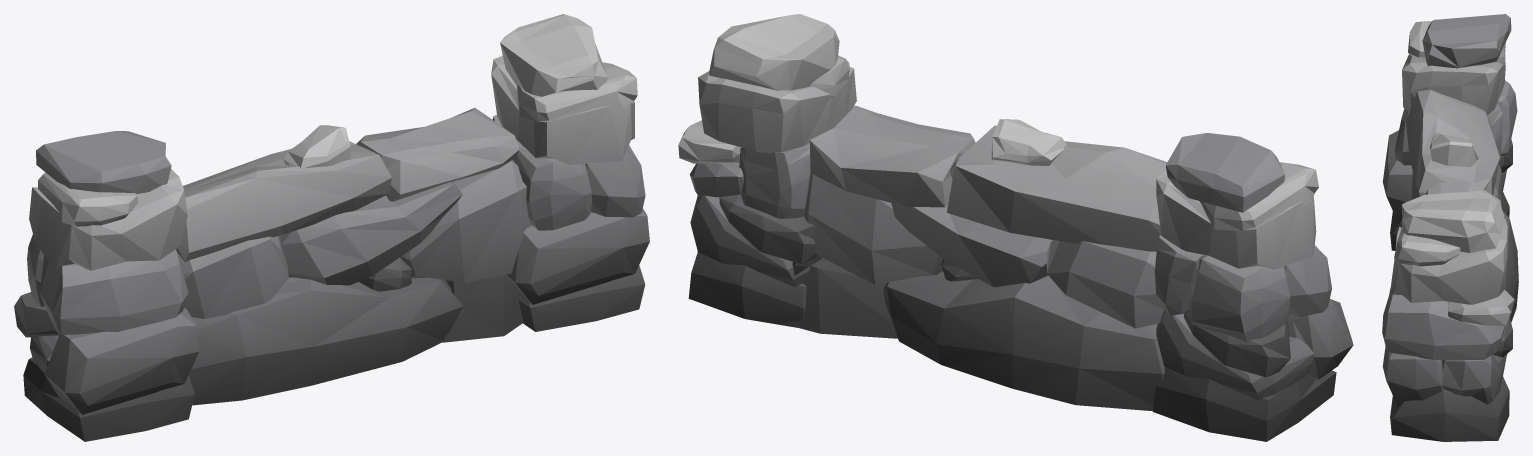
Rendered from RoadFenceStone_Sml-02.FBX.
The picture shows the model from 3 angles, left to right: view 1: azimuth 30°, elevation 25°; view 2: azimuth 150°, elevation 25°; view 3: azimuth 270°, elevation 25°; orthographic projection. The views are drawn at different scales.
Visible parts, largest first — view 1: RoadFenceStone_Sml-02; view 2: RoadFenceStone_Sml-02; view 3: RoadFenceStone_Sml-02.
Part boxes in pixels (bbox=[...]): RoadFenceStone_Sml-02: bbox=[14, 14, 649, 441]; RoadFenceStone_Sml-02: bbox=[678, 14, 1353, 441]; RoadFenceStone_Sml-02: bbox=[1382, 14, 1518, 441].
Bounding box in the file's own units: 314 × 130 × 74.39.
1 material, 1 textured.
